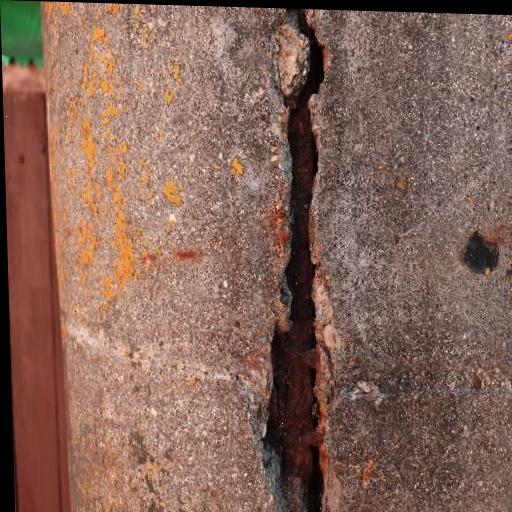exposed_rebar: (266, 9, 324, 512)
